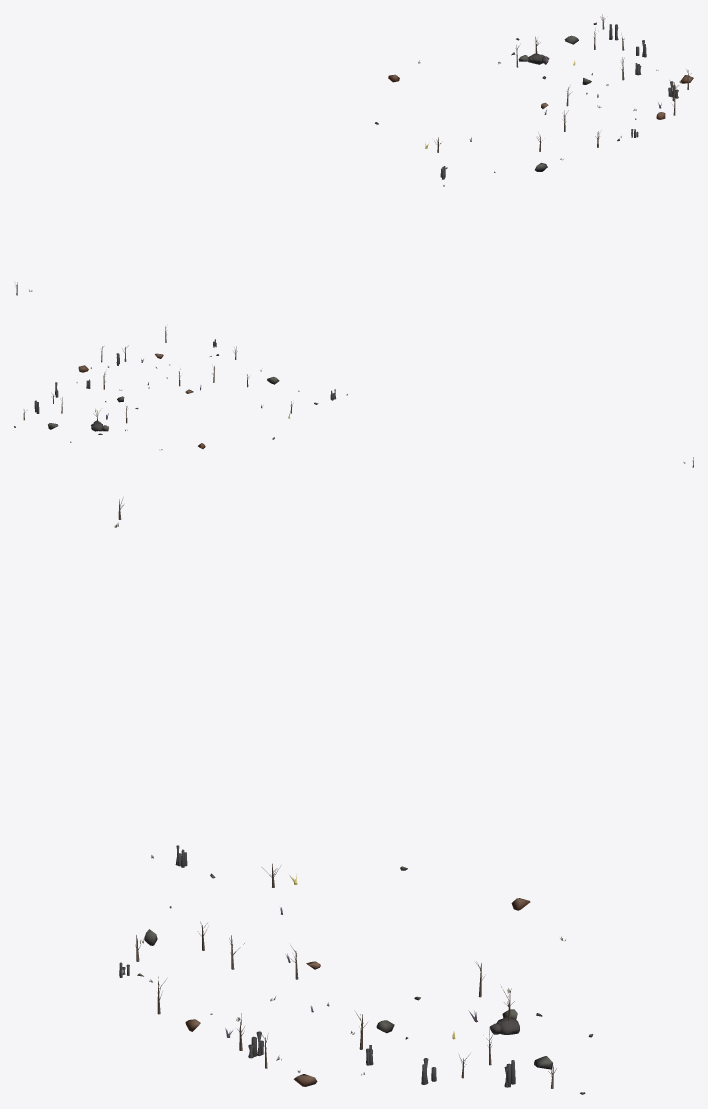
The model's file is ash_land_scatter_c20_27.glb.
3 views of the same model, one above another, from view 1: azimuth 30°, elevation 25°; view 2: azimuth 150°, elevation 25°; view 3: azimuth 270°, elevation 25° (orthographic). The views are drawn at different scales.
Visible parts, largest first — view 1: ash_land_scatter_c20_27; view 2: ash_land_scatter_c20_27; view 3: ash_land_scatter_c20_27.
Boxes of the visible parts, x1=… form: ash_land_scatter_c20_27: x1=16, y1=14, x2=693, y2=295; ash_land_scatter_c20_27: x1=14, y1=326, x2=693, y2=467; ash_land_scatter_c20_27: x1=114, y1=497, x2=593, y2=1094.
Bounding box in the file's own units: 248 × 15.83 × 90.27.
